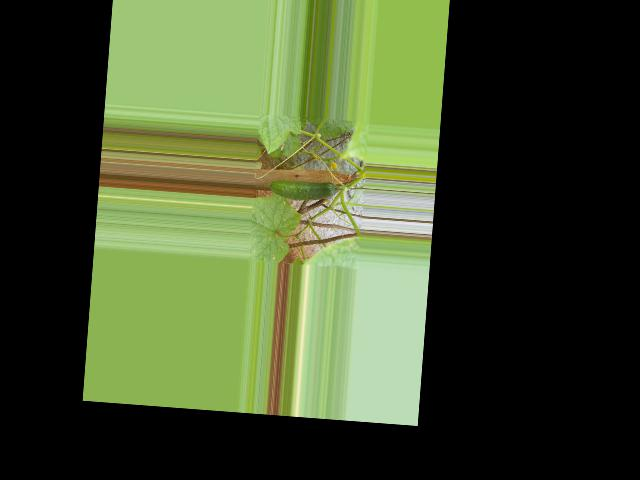cucumber: (268, 177, 336, 202)
